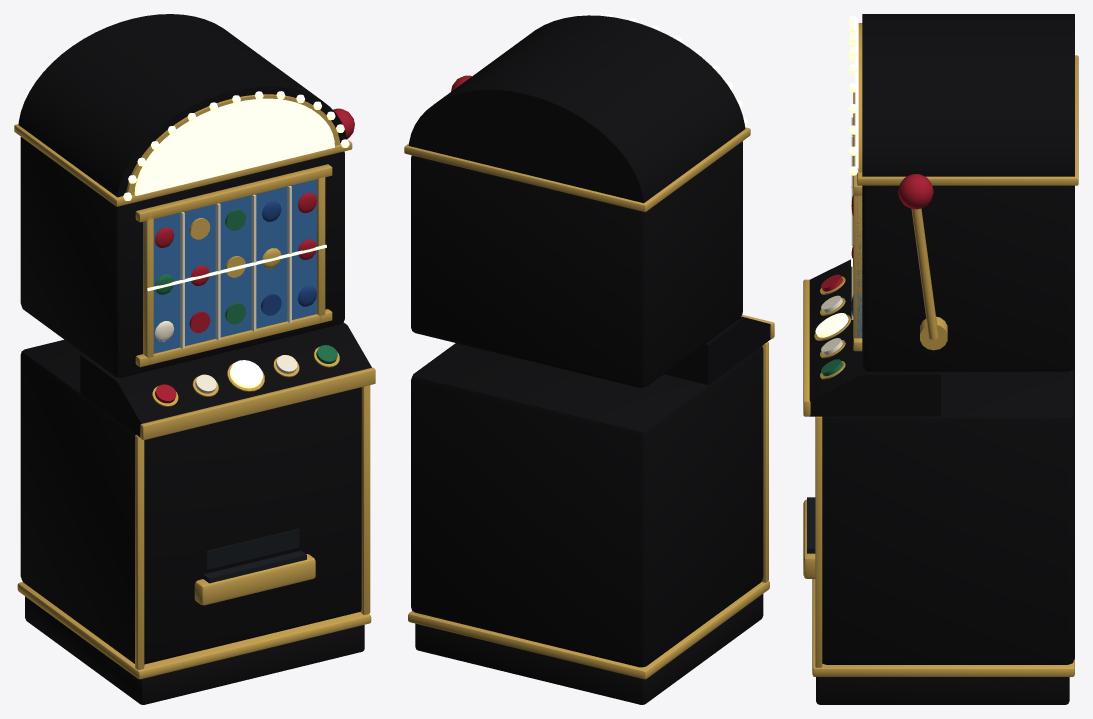
Rendered from slot_machine.glb.
The picture shows the model from 3 angles, left to right: view 1: azimuth 30°, elevation 25°; view 2: azimuth 150°, elevation 25°; view 3: azimuth 270°, elevation 25°; orthographic projection. The views are drawn at different scales.
Parts seen in each view (by area): view 1: slot_machine; view 2: slot_machine; view 3: slot_machine.
Boxes of the visible parts, <box> form: slot_machine: <box>14,14,375,704</box>; slot_machine: <box>404,14,774,704</box>; slot_machine: <box>803,14,1078,704</box>.
Bounding box in the file's own units: 0.915 × 1.9 × 0.77.
